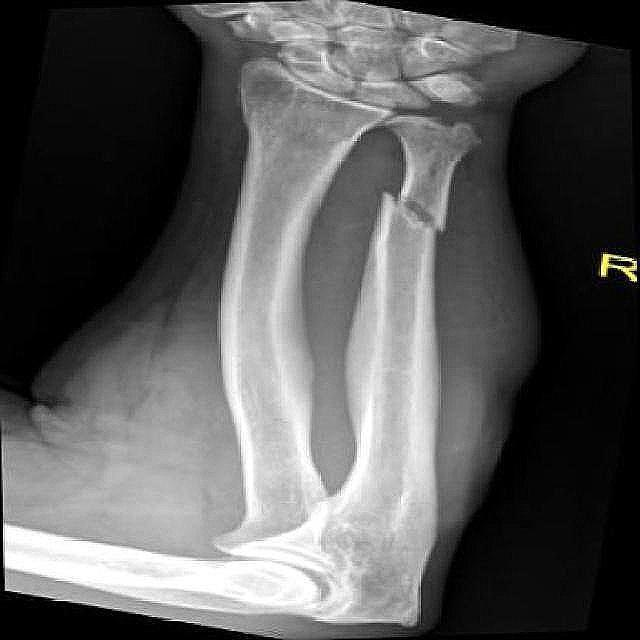bone: (376, 188, 459, 242)
